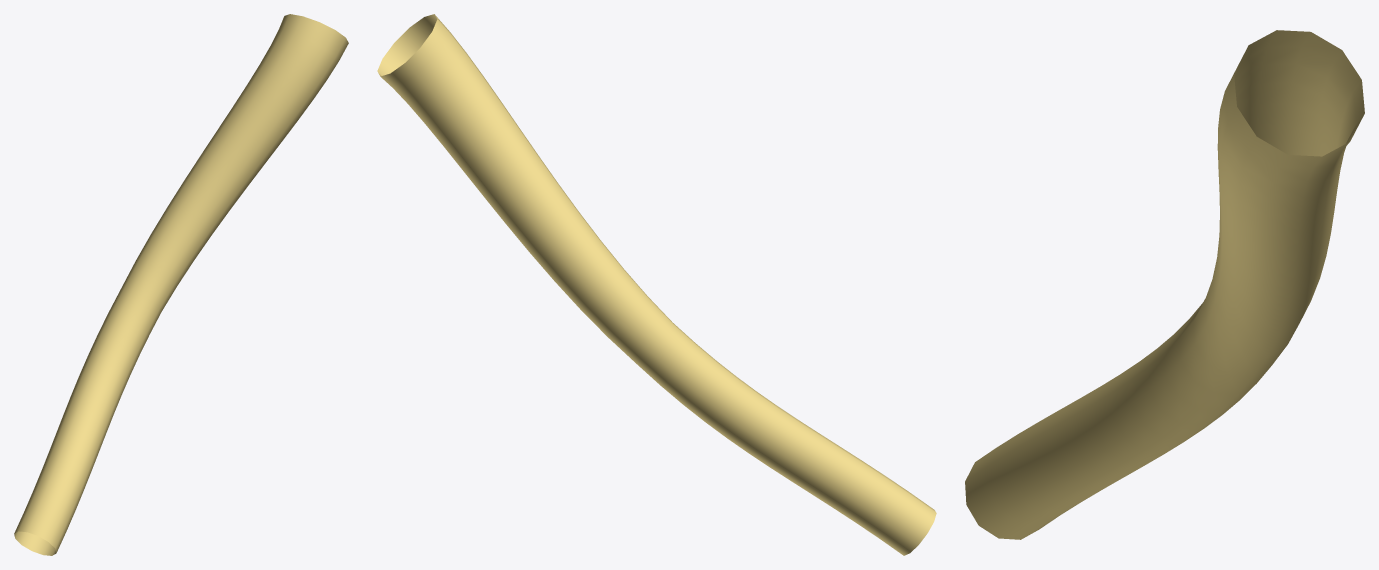
The picture shows the model from 3 angles, left to right: view 1: azimuth 30°, elevation 25°; view 2: azimuth 150°, elevation 25°; view 3: azimuth 270°, elevation 25°; orthographic projection. The views are drawn at different scales.
Parts seen in each view (by area): view 1: ZA_099cb29b80c96772; view 2: ZA_099cb29b80c96772; view 3: ZA_099cb29b80c96772.
Boxes of the visible parts, x1,y1,x2,y2 form: ZA_099cb29b80c96772: [14, 14, 348, 555]; ZA_099cb29b80c96772: [377, 14, 936, 555]; ZA_099cb29b80c96772: [965, 30, 1364, 539].
Bounding box in the file's own units: 0.0194 × 0.0195 × 0.00856.
